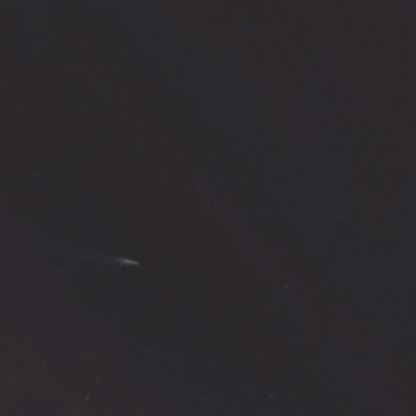ship: (128, 257, 131, 266)
